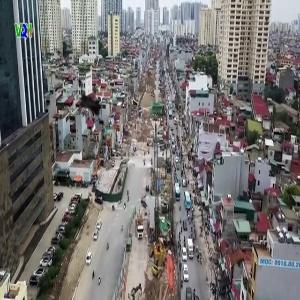drone: (57, 73, 125, 141)
